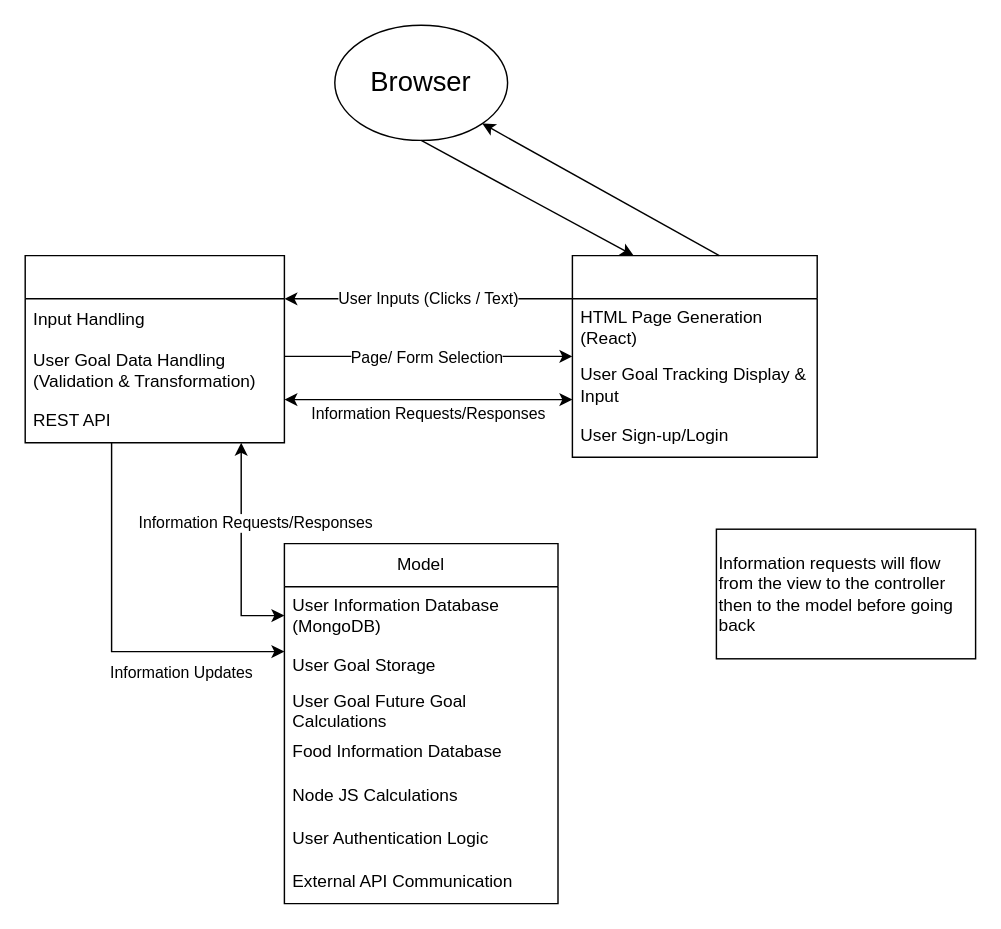
This 1001x929 diagram has some shape labels left out. Each missing label, with the box of its shape:
Controller: (24, 254, 284, 443)
View: (571, 254, 817, 457)
